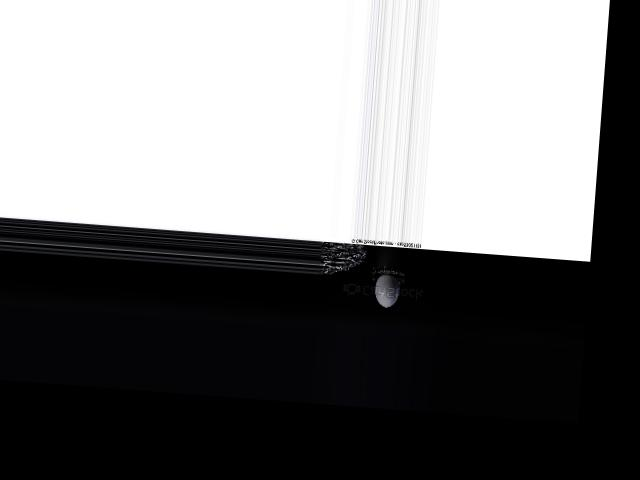egg: (374, 272, 401, 307)
